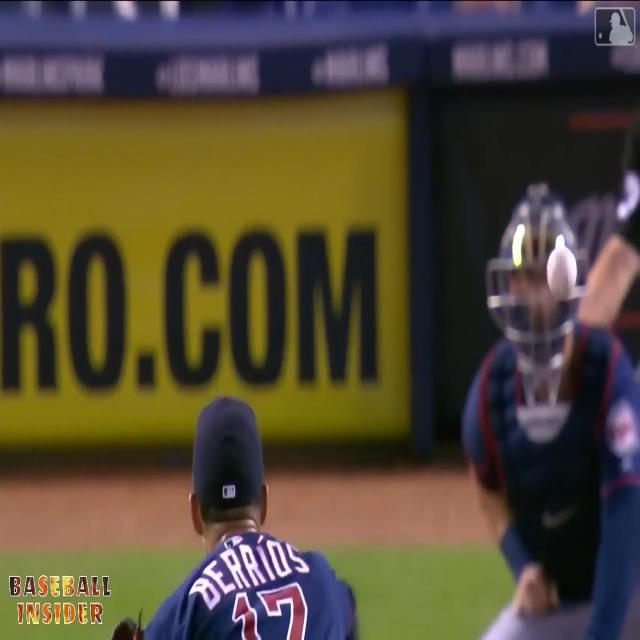baseball: (546, 247, 578, 300)
